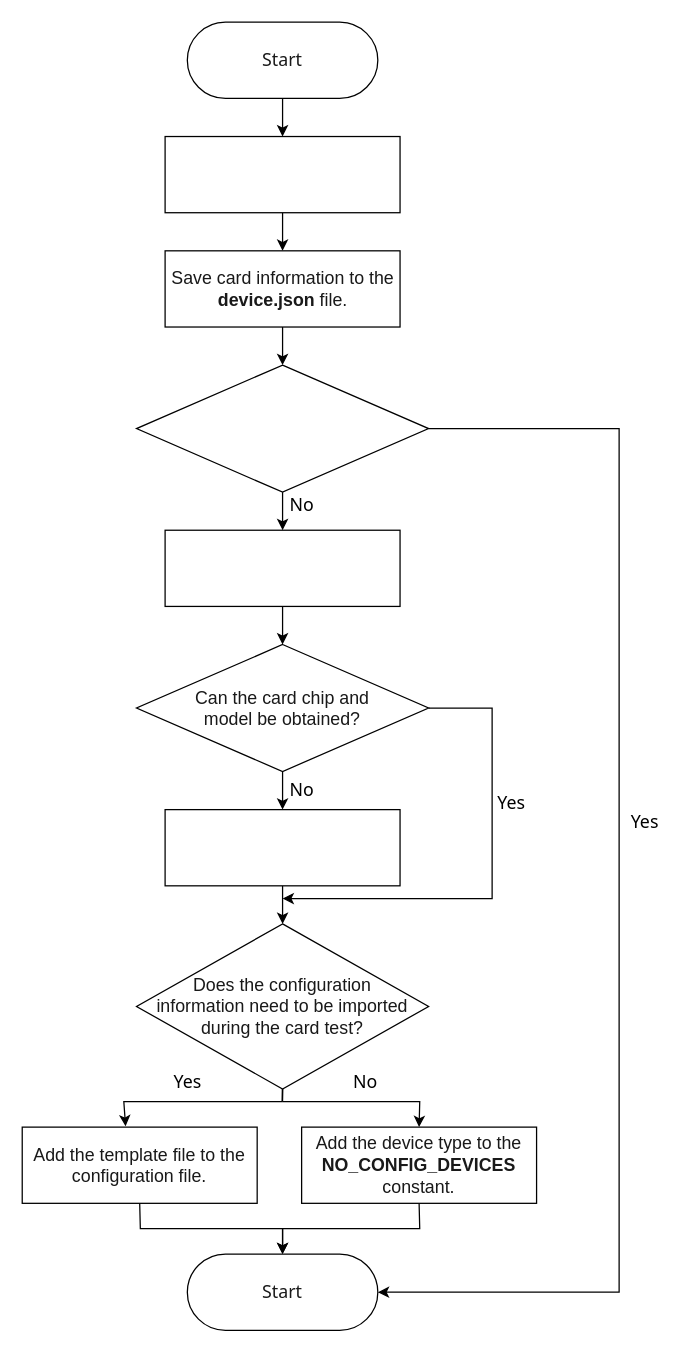
Some shapes in this 692 by 1353 pixel diagram are drawn without their labels. The centre of each missing label's shape, as x and y in pixels:
Add a card identification method.: the point at 282,567
Add the method of obtaining the chip and module models of the card.: the point at 282,847
Can the card be identified?: the point at 282,428
Obtain device information.: the point at 282,174
